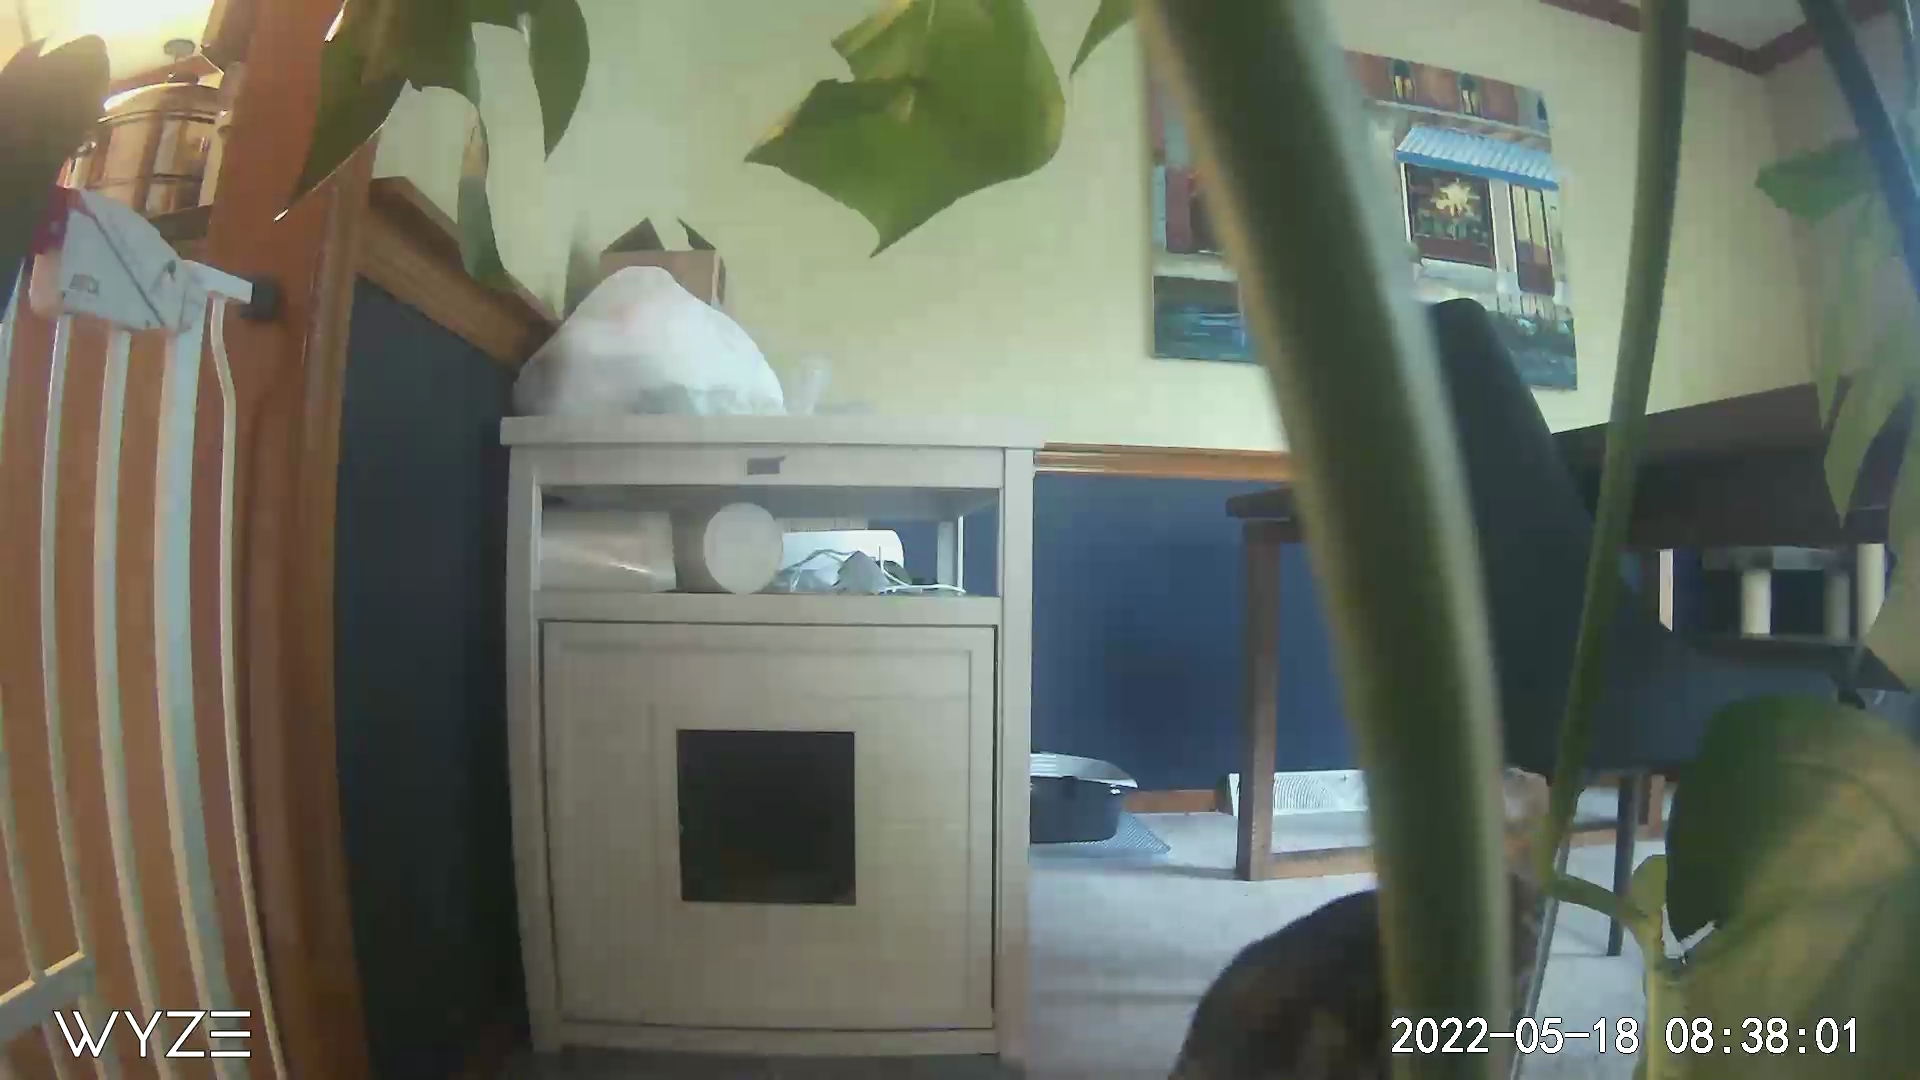sparky: (1171, 895, 1383, 1075)
